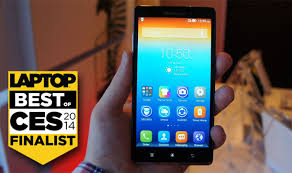lenovo: (124, 2, 219, 166)
